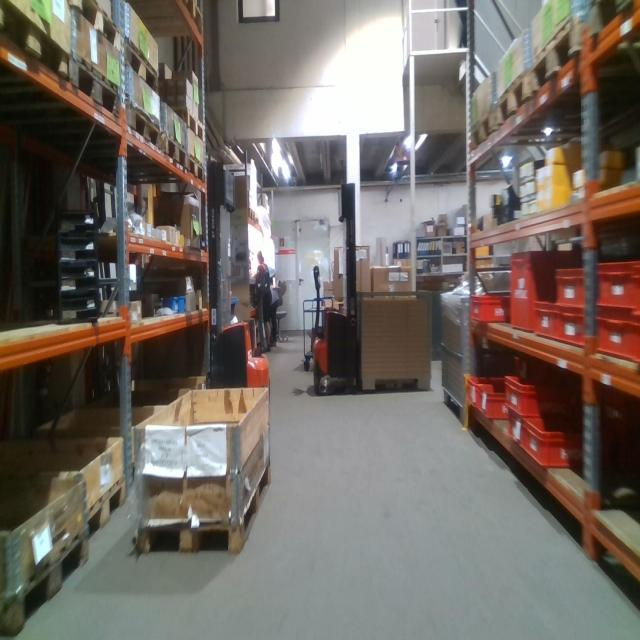pallet: (141, 454, 272, 558), (1, 519, 91, 638), (1, 3, 69, 89), (528, 17, 580, 103), (71, 55, 122, 123), (67, 1, 125, 58), (86, 469, 126, 539), (496, 64, 530, 134), (141, 3, 203, 37), (123, 99, 158, 156), (122, 41, 159, 94), (588, 4, 636, 42), (165, 104, 204, 150), (467, 113, 498, 160), (161, 136, 184, 174), (187, 151, 207, 189)
pallet_truck: (203, 149, 272, 391), (308, 182, 368, 398)
small_load_carrier: (511, 251, 585, 334), (524, 420, 621, 469), (507, 405, 578, 449), (507, 377, 581, 416), (597, 257, 635, 315), (597, 314, 635, 363), (467, 376, 510, 409), (559, 303, 589, 347), (472, 292, 510, 323), (557, 268, 585, 308), (533, 299, 559, 335), (483, 391, 509, 420), (634, 318, 640, 365), (633, 261, 638, 316)
stillage: (354, 285, 433, 393), (440, 292, 464, 426)
